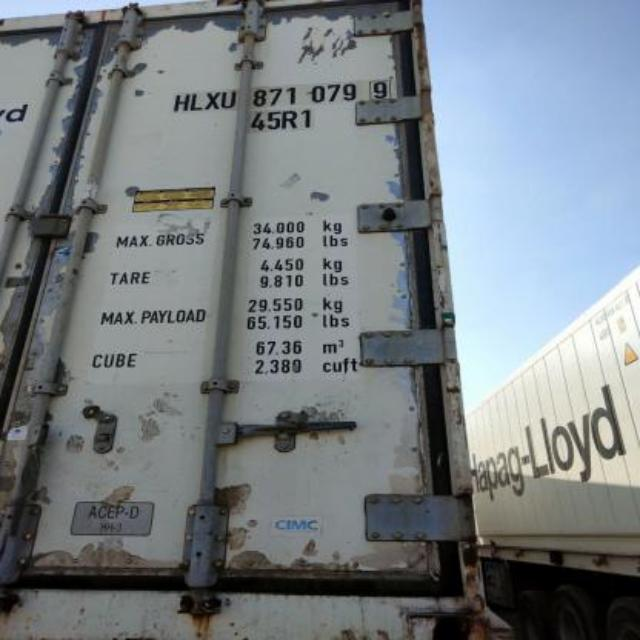0: (310, 85, 326, 103)
1: (285, 86, 297, 104)
7: (268, 88, 282, 106), (327, 85, 339, 101)
8: (254, 90, 266, 106)
9: (372, 83, 388, 99), (344, 83, 356, 101)
H: (176, 94, 188, 112)
L: (190, 93, 202, 111)
U: (222, 91, 234, 109)
X: (204, 92, 220, 110)
